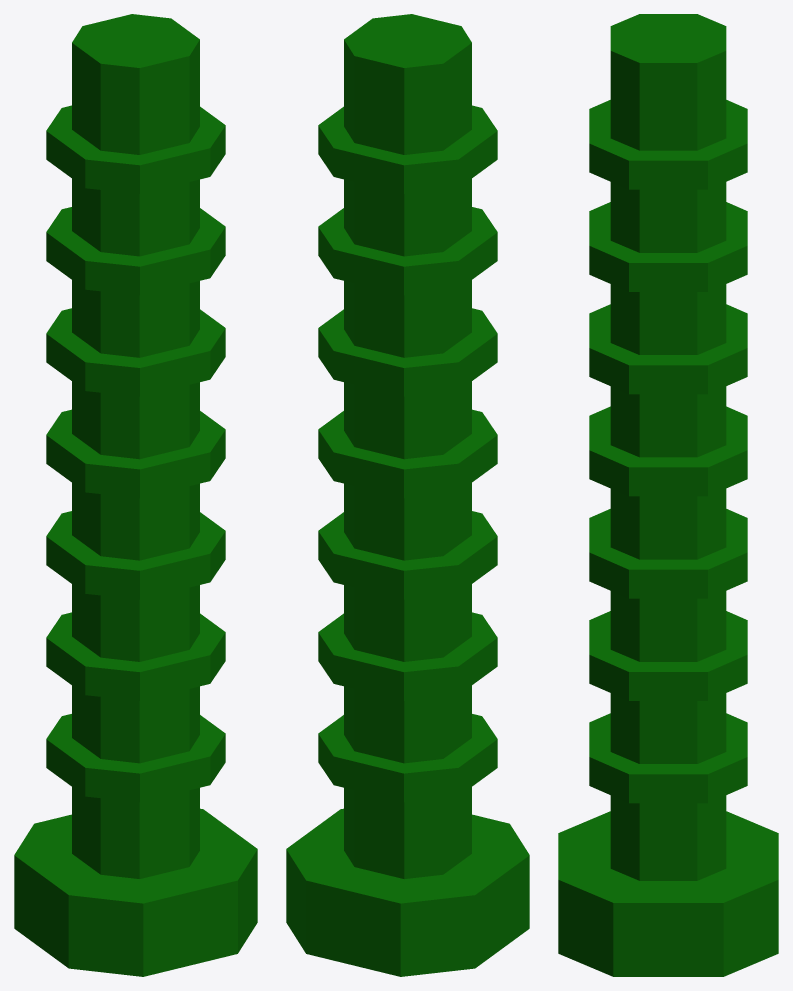
The model's file is Tower3.fbx.
The picture shows the model from 3 angles, left to right: view 1: azimuth 30°, elevation 25°; view 2: azimuth 150°, elevation 25°; view 3: azimuth 270°, elevation 25°; orthographic projection.
Parts seen in each view (by area): view 1: Plane.002; view 2: Plane.002; view 3: Plane.002.
Part boxes in pixels (<box>): Plane.002: <box>14,14,257,976</box>; Plane.002: <box>286,14,529,976</box>; Plane.002: <box>558,14,778,976</box>.
Bounding box in the file's own units: 200 × 894 × 200.
